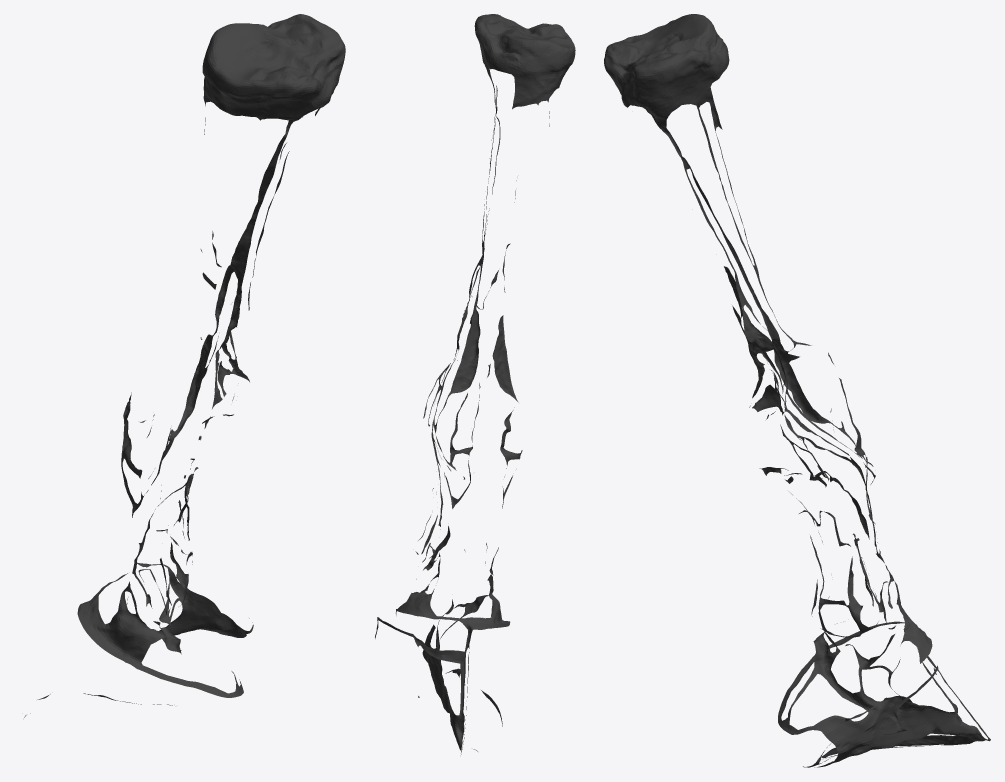
The model's file is eq_dist_limb_clean_LO.glb.
3 views of the same model, side by side, from view 1: azimuth 30°, elevation 25°; view 2: azimuth 150°, elevation 25°; view 3: azimuth 270°, elevation 25° (orthographic). The views are drawn at different scales.
Visible parts, largest first — view 1: eq_dist_limb_clean_LO; view 2: eq_dist_limb_clean_LO; view 3: eq_dist_limb_clean_LO.
Boxes of the visible parts, box(x1,y1,x2,y2) form: eq_dist_limb_clean_LO: box(24, 14, 345, 717); eq_dist_limb_clean_LO: box(375, 14, 575, 754); eq_dist_limb_clean_LO: box(604, 14, 990, 767).
Size of the model in its own units: 0.0177 by 0.0737 by 0.0338.
Materials: 1 (1 with a texture image).
